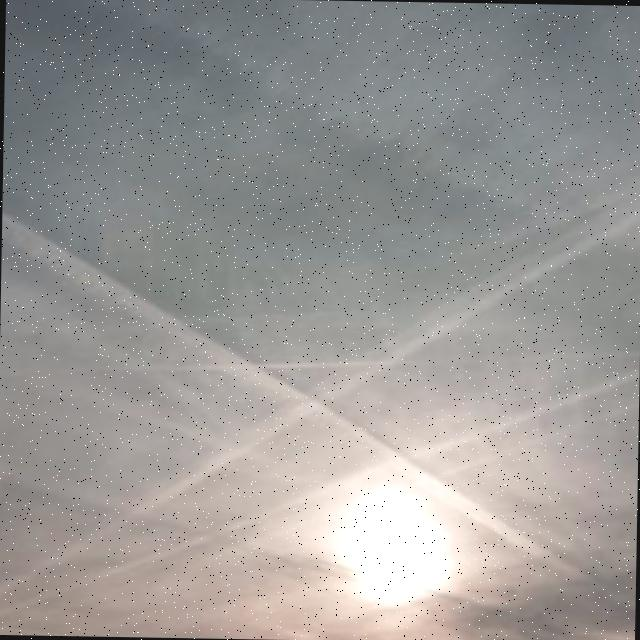Ct: (1, 18, 640, 640)
